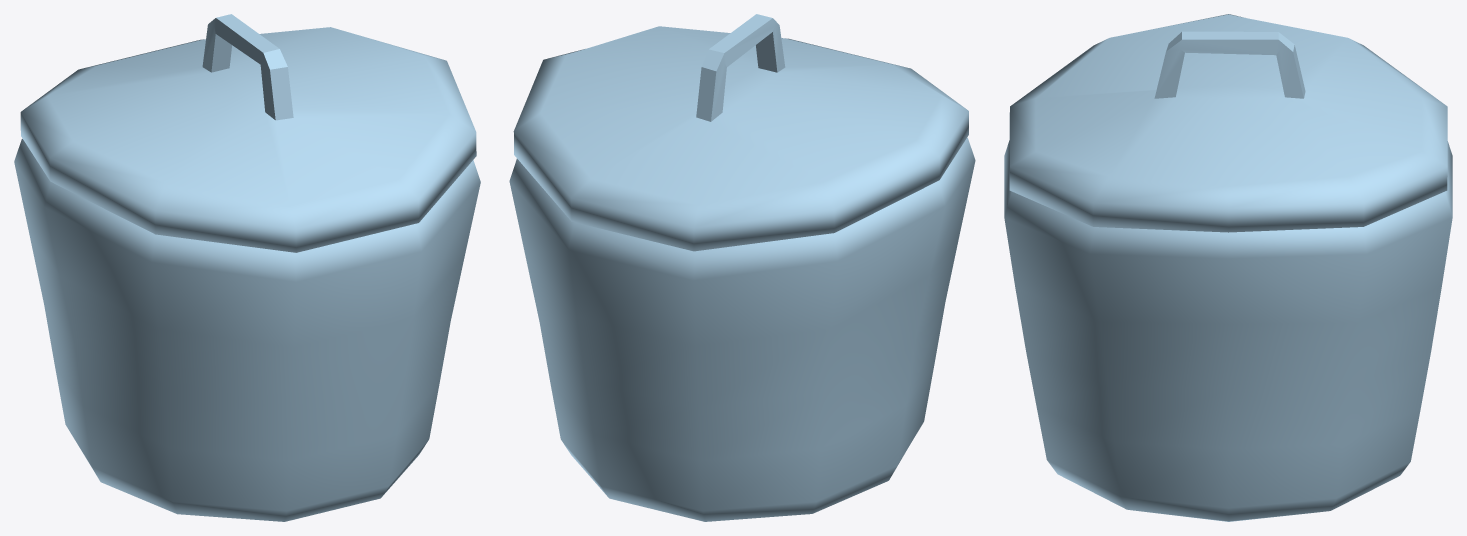
Rendered from garbage_can_02.fbx.
The picture shows the model from 3 angles, left to right: view 1: azimuth 30°, elevation 25°; view 2: azimuth 150°, elevation 25°; view 3: azimuth 270°, elevation 25°; orthographic projection.
Parts seen in each view (by area): view 1: pCylinder30, polySurface30; view 2: pCylinder30, polySurface30; view 3: pCylinder30, polySurface30.
Boxes of the visible parts, <box> form: pCylinder30: <box>14,139,480,521</box>; polySurface30: <box>20,14,476,252</box>; pCylinder30: <box>509,137,975,521</box>; polySurface30: <box>513,14,968,251</box>; pCylinder30: <box>1004,140,1452,521</box>; polySurface30: <box>1009,14,1447,232</box>.
Size of the model in its own units: 131 by 130 by 124.
